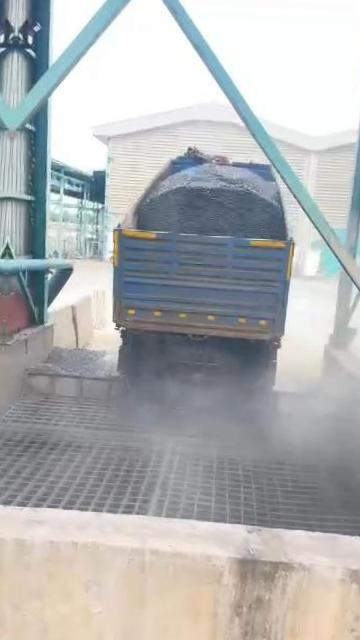gravel: (138, 160, 286, 238), (120, 332, 276, 392), (31, 348, 119, 379)
